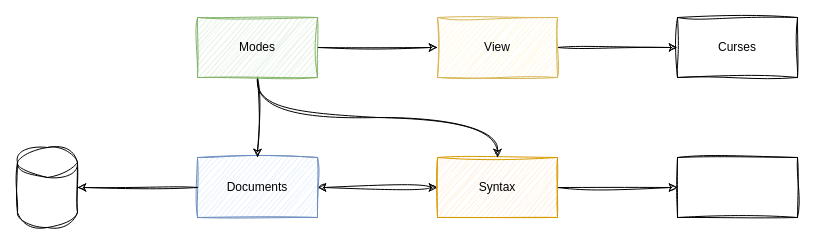
Some shapes in this 815 by 245 pixel diagram are drawn without their labels. The shapes that lost their labels are listed below. From the top down, each one's box as (x1, y1, x2, y2) in pixels, then its label:
(16, 146, 78, 228): Files
(676, 156, 798, 218): Pygments
